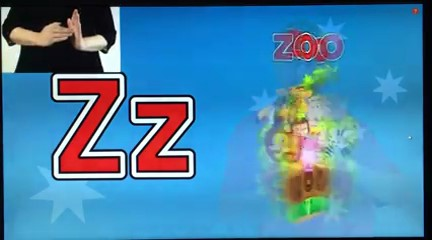Z: (35, 3, 101, 54)
